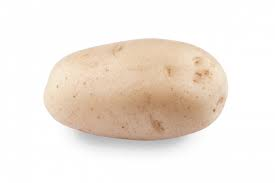potato: (41, 37, 235, 139)
